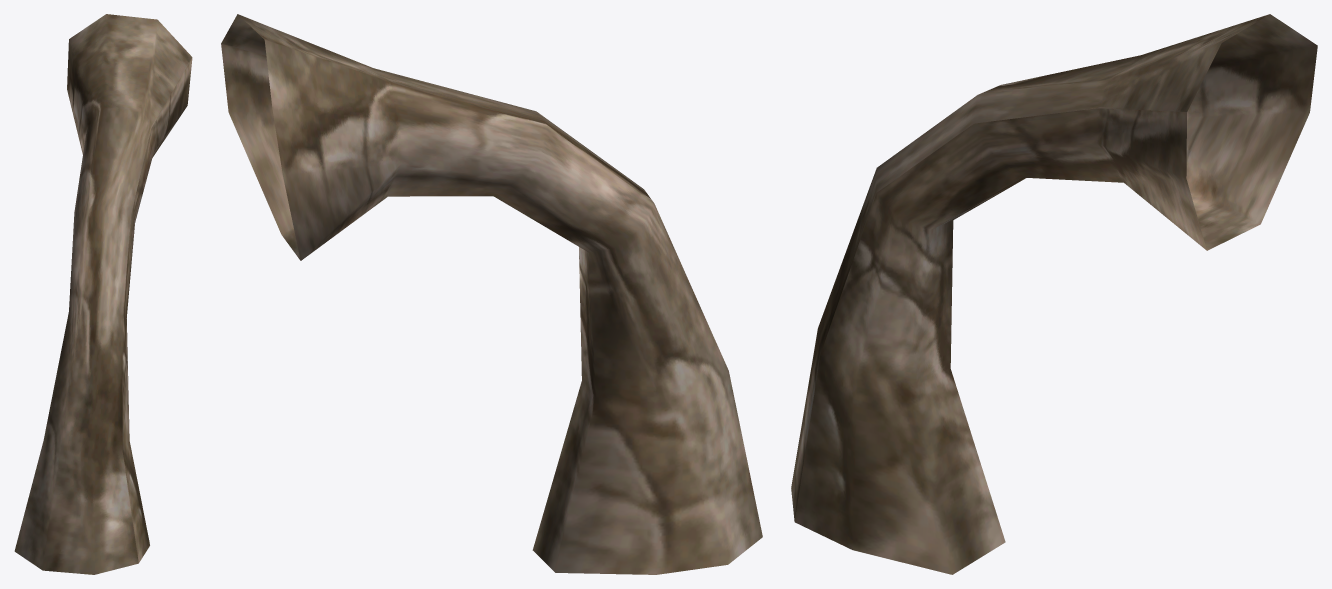
Rendered from OVERHILL_A_01_ARCH3.fbx.
The picture shows the model from 3 angles, left to right: view 1: azimuth 30°, elevation 25°; view 2: azimuth 150°, elevation 25°; view 3: azimuth 270°, elevation 25°; orthographic projection. The views are drawn at different scales.
Parts seen in each view (by area): view 1: OVERHILL_A_01_ARCH3; view 2: OVERHILL_A_01_ARCH3; view 3: OVERHILL_A_01_ARCH3.
Boxes of the visible parts, left/top/right/bottom form: OVERHILL_A_01_ARCH3: left=14, top=14, right=192, bottom=574; OVERHILL_A_01_ARCH3: left=221, top=14, right=762, bottom=574; OVERHILL_A_01_ARCH3: left=791, top=14, right=1317, bottom=574.
Bounding box in the file's own units: 27838 × 41458 × 31912.
1 material, 1 textured.
